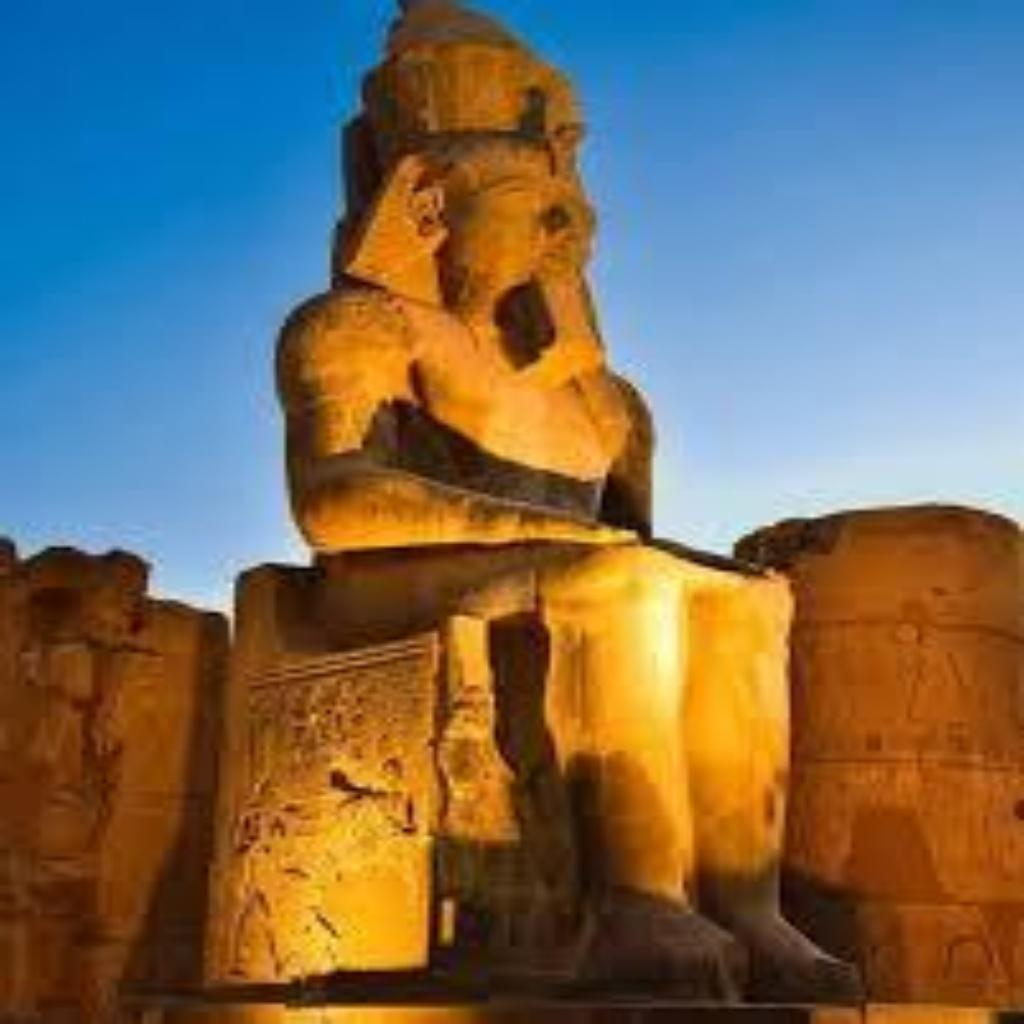Statue of King Ramses II Luxor Temple: (274, 0, 866, 1008)
